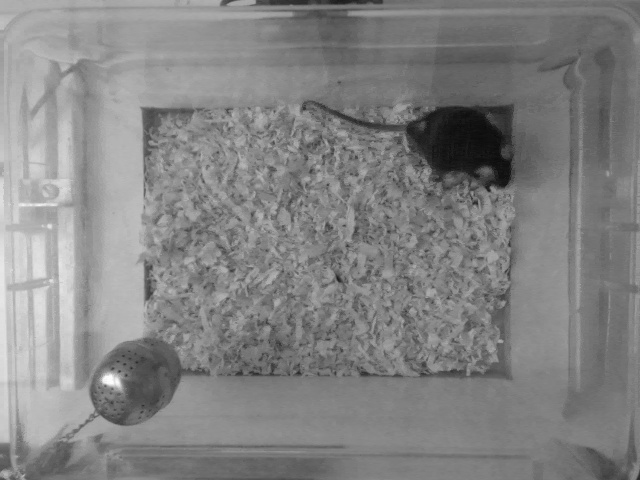mice: (302, 98, 516, 191)
